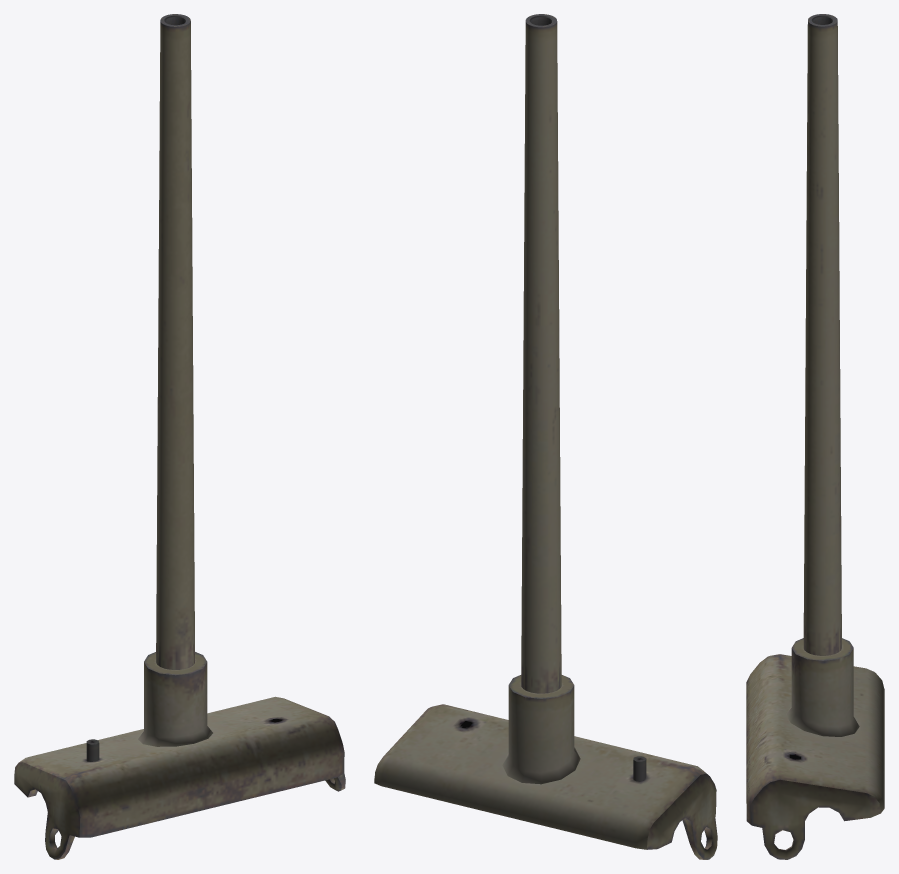
Rendered from Gun_05.glb.
The picture shows the model from 3 angles, left to right: view 1: azimuth 30°, elevation 25°; view 2: azimuth 150°, elevation 25°; view 3: azimuth 270°, elevation 25°; orthographic projection. The views are drawn at different scales.
Parts seen in each view (by area): view 1: set_0_group_0; view 2: set_0_group_0; view 3: set_0_group_0.
Part boxes in pixels (x1,y1,x2,y2): set_0_group_0: [14, 14, 345, 859]; set_0_group_0: [374, 14, 717, 859]; set_0_group_0: [746, 14, 884, 859].
Bounding box in the file's own units: 1.23 × 3.19 × 0.5169.
1 material, 1 textured.
